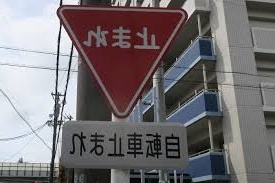Regulatory_sign_triangle: (55, 5, 197, 121)
